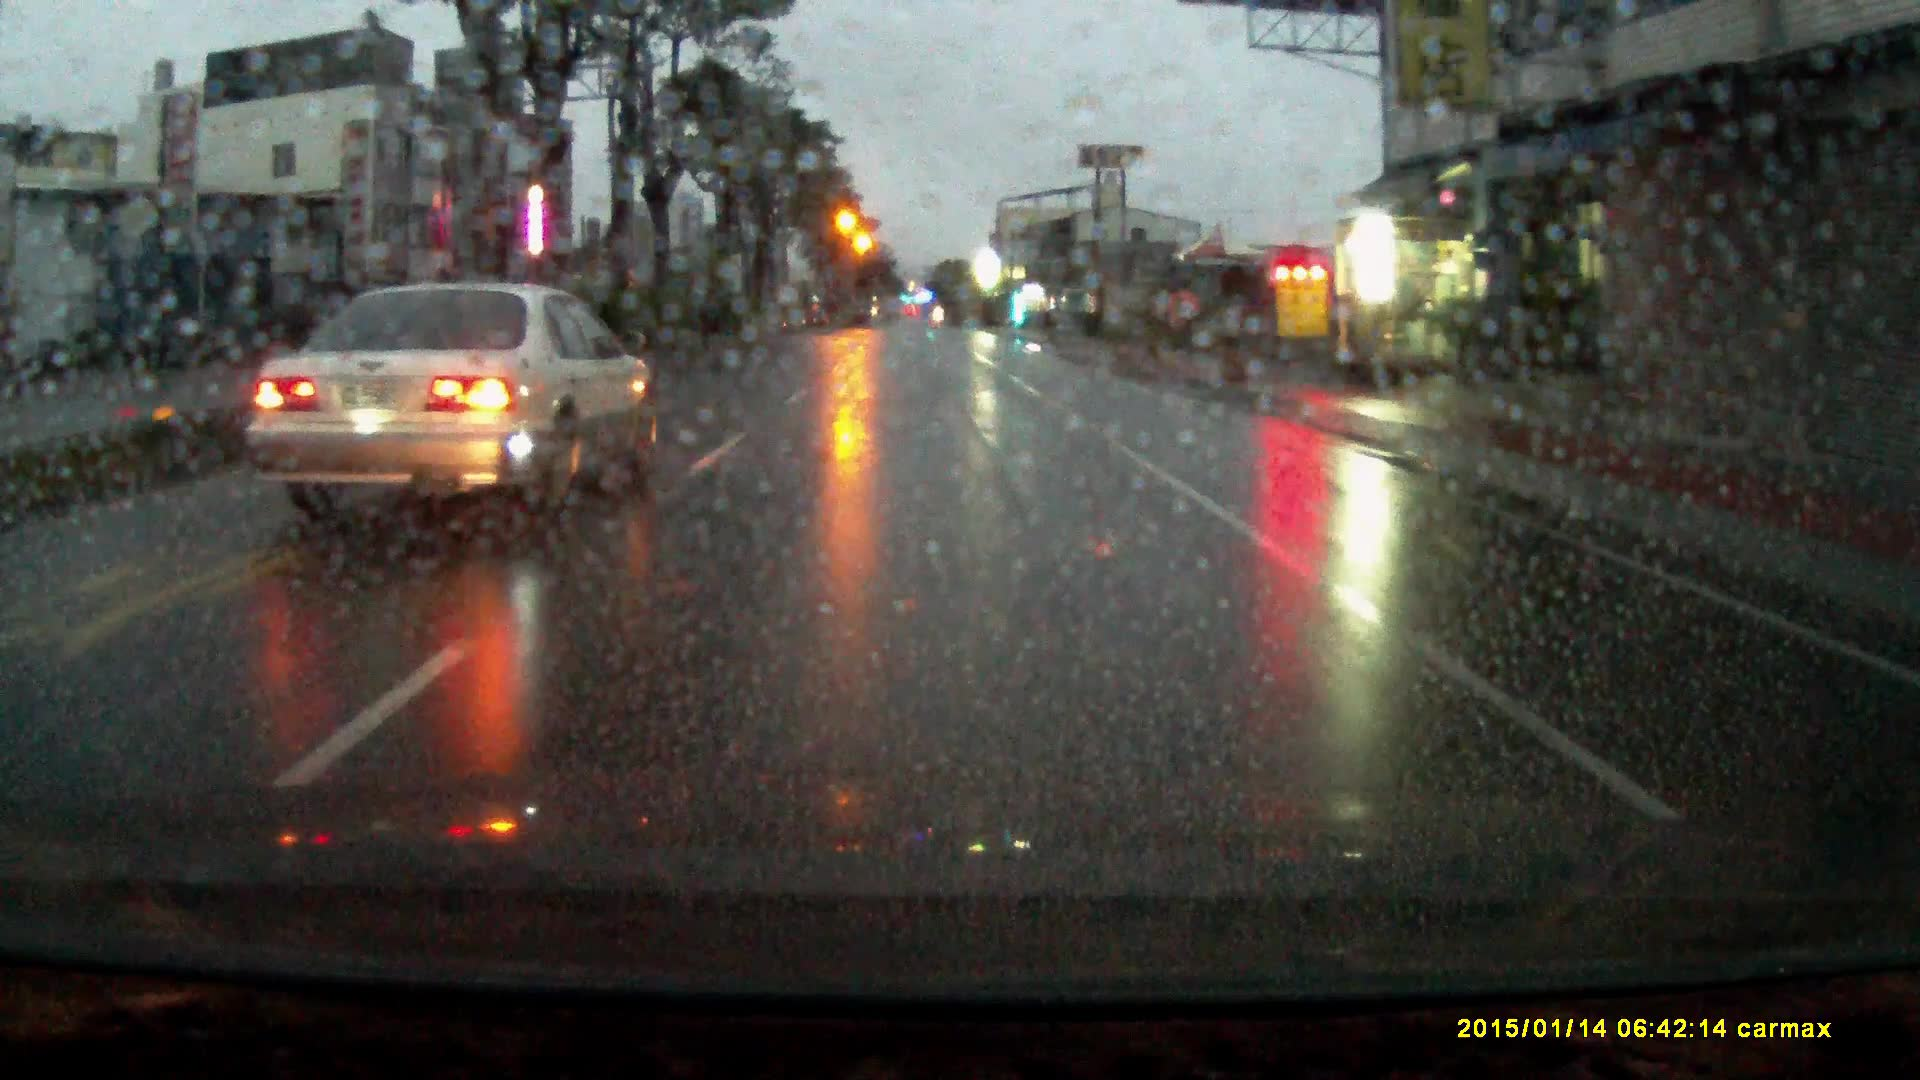vehicle: (240, 289, 662, 527)
